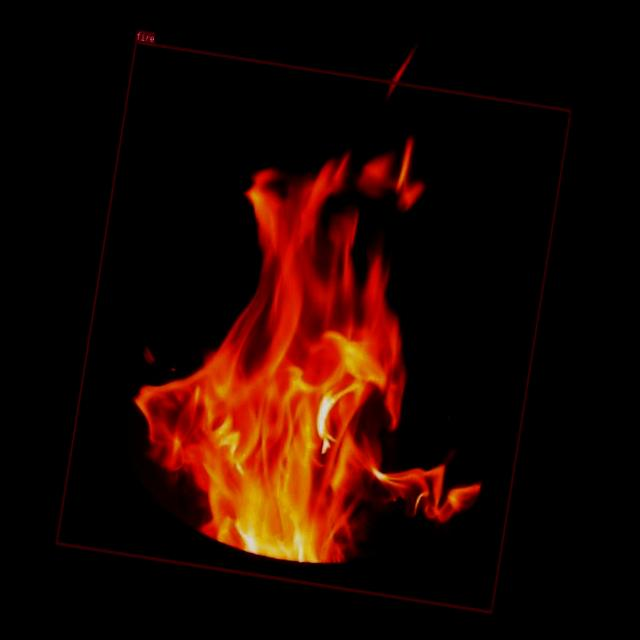fire: (55, 39, 572, 614)
